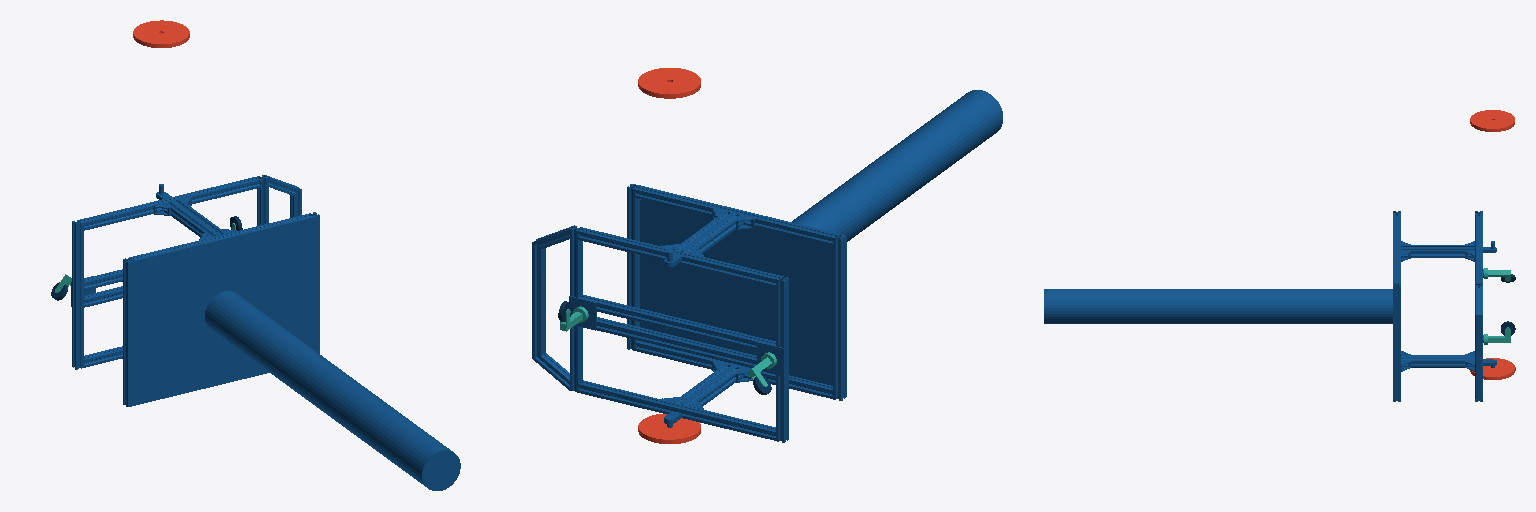
URDF robot description (GazeboV0):
<?xml version="1.0" encoding="utf-8"?>
<!-- This URDF was automatically created by SolidWorks to URDF Exporter! Originally created by [author] ([email redacted]) 
     Commit Version: 1.5.1-0-g916b5db  Build Version: 1.5.7152.31018
     For more information, please see http://wiki.ros.org/sw_urdf_exporter -->
<robot
  name="GazeboV0">
  <link
    name="Chassis">
    <inertial>
      <origin
        xyz="-0.043917 -0.52949 -0.0017265"
        rpy="0 0 0" />
      <mass
        value="25.478" />
      <inertia
        ixx="3.1305"
        ixy="-0.040722"
        ixz="-1.4486E-06"
        iyy="0.22262"
        iyz="-7.6694E-05"
        izz="3.184" />
    </inertial>
    <visual>
      <origin
        xyz="0 0 0"
        rpy="0 0 0" />
      <geometry>
        <mesh
          filename="package://GazeboV0/meshes/Chassis.STL" />
      </geometry>
      <material
        name="">
        <color
          rgba="0.12549 0.38823 0.60784 1" />
      </material>
    </visual>
    <collision>
      <origin
        xyz="0 0 0"
        rpy="0 0 0" />
      <geometry>
        <mesh
          filename="package://GazeboV0/meshes/Chassis.STL" />
      </geometry>
    </collision>
  </link>
  <link
    name="RightWheel">
    <inertial>
      <origin
        xyz="1.3878E-16 6.9389E-18 0.0051"
        rpy="0 0 0" />
      <mass
        value="0.33861" />
      <inertia
        ixx="0.00034758"
        ixy="-1.4714E-23"
        ixz="9.685E-18"
        iyy="0.00034758"
        iyz="4.2157E-19"
        izz="0.00068952" />
    </inertial>
    <visual>
      <origin
        xyz="0 0 0"
        rpy="0 0 0" />
      <geometry>
        <mesh
          filename="package://GazeboV0/meshes/RightWheel.STL" />
      </geometry>
      <material
        name="">
        <color
          rgba="0.92941 0.33333 0.23137 1" />
      </material>
    </visual>
    <collision>
      <origin
        xyz="0 0 0"
        rpy="0 0 0" />
      <geometry>
        <mesh
          filename="package://GazeboV0/meshes/RightWheel.STL" />
      </geometry>
    </collision>
  </link>
  <joint
    name="RightRevolute"
    type="continuous">
    <origin
      xyz="-0.046488 0.13117 -0.19103"
      rpy="3.1416 0 1.5708" />
    <parent
      link="Chassis" />
    <child
      link="RightWheel" />
    <axis
      xyz="0 0 1" />
    <dynamics
      damping="0"
      friction="0" />
  </joint>
  <link
    name="LeftWheel">
    <inertial>
      <origin
        xyz="-8.3267E-17 0 -0.0051"
        rpy="0 0 0" />
      <mass
        value="0.33861" />
      <inertia
        ixx="0.00034758"
        ixy="0"
        ixz="5.1865E-18"
        iyy="0.00034758"
        iyz="2.0943E-18"
        izz="0.00068952" />
    </inertial>
    <visual>
      <origin
        xyz="0 0 0"
        rpy="0 0 0" />
      <geometry>
        <mesh
          filename="package://GazeboV0/meshes/LeftWheel.STL" />
      </geometry>
      <material
        name="">
        <color
          rgba="0.92941 0.33333 0.23137 1" />
      </material>
    </visual>
    <collision>
      <origin
        xyz="0 0 0"
        rpy="0 0 0" />
      <geometry>
        <mesh
          filename="package://GazeboV0/meshes/LeftWheel.STL" />
      </geometry>
    </collision>
  </link>
  <joint
    name="LeftRevolute"
    type="continuous">
    <origin
      xyz="-0.046488 0.13117 0.18817"
      rpy="-3.1416 0 0.4158" />
    <parent
      link="Chassis" />
    <child
      link="LeftWheel" />
    <axis
      xyz="0 0 1" />
    <dynamics
      damping="0"
      friction="0" />
  </joint>
  <link
    name="FrontCastor">
    <inertial>
      <origin
        xyz="0.0030314 0.034563 -2.7756E-17"
        rpy="0 0 0" />
      <mass
        value="0.067153" />
      <inertia
        ixx="4.4926E-05"
        ixy="-6.705E-06"
        ixz="5.639E-21"
        iyy="9.6191E-06"
        iyz="1.5764E-20"
        izz="4.9799E-05" />
    </inertial>
    <visual>
      <origin
        xyz="0 0 0"
        rpy="0 0 0" />
      <geometry>
        <mesh
          filename="package://GazeboV0/meshes/FrontCastor.STL" />
      </geometry>
      <material
        name="">
        <color
          rgba="0.23529 0.68235 0.63921 1" />
      </material>
    </visual>
    <collision>
      <origin
        xyz="0 0 0"
        rpy="0 0 0" />
      <geometry>
        <mesh
          filename="package://GazeboV0/meshes/FrontCastor.STL" />
      </geometry>
    </collision>
  </link>
  <joint
    name="FrontCastorRevolute"
    type="continuous">
    <origin
      xyz="0.17263668098028 0.106171705400847 -0.00173226325399095"
      rpy="3.14159265358979 -1.54598030035848 3.14159265358979" />
    <parent
      link="Chassis" />
    <child
      link="FrontCastor" />
    <axis
      xyz="0 1 0" />
    <dynamics
      damping="0"
      friction="0" />
  </joint>
  <link
    name="FrontCastorWheel">
    <inertial>
      <origin
        xyz="1.3878E-17 2.7756E-17 -6.9389E-16"
        rpy="0 0 0" />
      <mass
        value="0.031765" />
      <inertia
        ixx="3.915E-06"
        ixy="4.2352E-22"
        ixz="4.8231E-21"
        iyy="3.915E-06"
        iyz="-3.9054E-21"
        izz="7.4011E-06" />
    </inertial>
    <visual>
      <origin
        xyz="0 0 0"
        rpy="0 0 0" />
      <geometry>
        <mesh
          filename="package://GazeboV0/meshes/FrontCastorWheel.STL" />
      </geometry>
      <material
        name="">
        <color
          rgba="0.09019 0.24705 0.37254 1" />
      </material>
    </visual>
    <collision>
      <origin
        xyz="0 0 0"
        rpy="0 0 0" />
      <geometry>
        <mesh
          filename="package://GazeboV0/meshes/FrontCastorWheel.STL" />
      </geometry>
    </collision>
  </link>
  <joint
    name="FrontCastorWheelRevolute"
    type="continuous">
    <origin
      xyz="0.0320000000000025 0.0674999999999988 0"
      rpy="0 0 -2.72865613261179" />
    <parent
      link="FrontCastor" />
    <child
      link="FrontCastorWheel" />
    <axis
      xyz="0 0 1" />
    <dynamics
      damping="0"
      friction="0" />
  </joint>
  <link
    name="RearCastor">
    <inertial>
      <origin
        xyz="0.0030314 0.034563 2.7756E-17"
        rpy="0 0 0" />
      <mass
        value="0.067153" />
      <inertia
        ixx="4.4926E-05"
        ixy="-6.705E-06"
        ixz="2.8327E-21"
        iyy="9.6191E-06"
        iyz="-5.914E-21"
        izz="4.9799E-05" />
    </inertial>
    <visual>
      <origin
        xyz="0 0 0"
        rpy="0 0 0" />
      <geometry>
        <mesh
          filename="package://GazeboV0/meshes/RearCastor.STL" />
      </geometry>
      <material
        name="">
        <color
          rgba="0.23529 0.68235 0.63921 1" />
      </material>
    </visual>
    <collision>
      <origin
        xyz="0 0 0"
        rpy="0 0 0" />
      <geometry>
        <mesh
          filename="package://GazeboV0/meshes/RearCastor.STL" />
      </geometry>
    </collision>
  </link>
  <joint
    name="RearCastorRevolute"
    type="continuous">
    <origin
      xyz="-0.265612518275258 0.106171705400852 -0.00173226325399275"
      rpy="3.14159265358978 0.863215800991521 -3.14159265358979" />
    <parent
      link="Chassis" />
    <child
      link="RearCastor" />
    <axis
      xyz="0 1 0" />
    <dynamics
      damping="0"
      friction="0" />
  </joint>
  <link
    name="RearCastorWheel">
    <inertial>
      <origin
        xyz="0 -2.7756E-17 -1.3878E-16"
        rpy="0 0 0" />
      <mass
        value="0.031765" />
      <inertia
        ixx="3.915E-06"
        ixy="1.0588E-22"
        ixz="2.5401E-21"
        iyy="3.915E-06"
        iyz="7.4701E-22"
        izz="7.4011E-06" />
    </inertial>
    <visual>
      <origin
        xyz="0 0 0"
        rpy="0 0 0" />
      <geometry>
        <mesh
          filename="package://GazeboV0/meshes/RearCastorWheel.STL" />
      </geometry>
      <material
        name="">
        <color
          rgba="0.09019 0.24705 0.37254 1" />
      </material>
    </visual>
    <collision>
      <origin
        xyz="0 0 0"
        rpy="0 0 0" />
      <geometry>
        <mesh
          filename="package://GazeboV0/meshes/RearCastorWheel.STL" />
      </geometry>
    </collision>
  </link>
  <joint
    name="RearCastorWheelRevolute"
    type="continuous">
    <origin
      xyz="0.032 0.0675 0"
      rpy="0 0 1.2997" />
    <parent
      link="RearCastor" />
    <child
      link="RearCastorWheel" />
    <axis
      xyz="0 0 1" />
    <dynamics
      damping="0"
      friction="0" />
  </joint>
</robot>

--- Facts derived from the render (not from the file) ---
The picture shows the robot from 3 angles, left to right: view 1: azimuth 30°, elevation 25°; view 2: azimuth 150°, elevation 25°; view 3: azimuth 270°, elevation 25°; orthographic projection.
Model GazeboV0 with 7 links and 6 joints (6 continuous), rooted at Chassis, posed every joint at zero.
Visible links, largest first — view 1: Chassis, LeftWheel; view 2: Chassis, LeftWheel, RightWheel; view 3: Chassis, LeftWheel, RightWheel.
Link boxes in pixels (<box>): Chassis: <box>71,175,460,490</box>; LeftWheel: <box>133,20,189,47</box>; Chassis: <box>532,90,1002,442</box>; LeftWheel: <box>638,68,700,98</box>; RightWheel: <box>638,414,700,443</box>; Chassis: <box>1044,211,1496,401</box>; LeftWheel: <box>1470,110,1514,131</box>; RightWheel: <box>1470,358,1515,379</box>.
Size in the robot's own frame: 0.5936 by 1.32 by 0.7788 metres.
7 mesh visuals loaded from 7 distinct referenced files (7 binary STL).